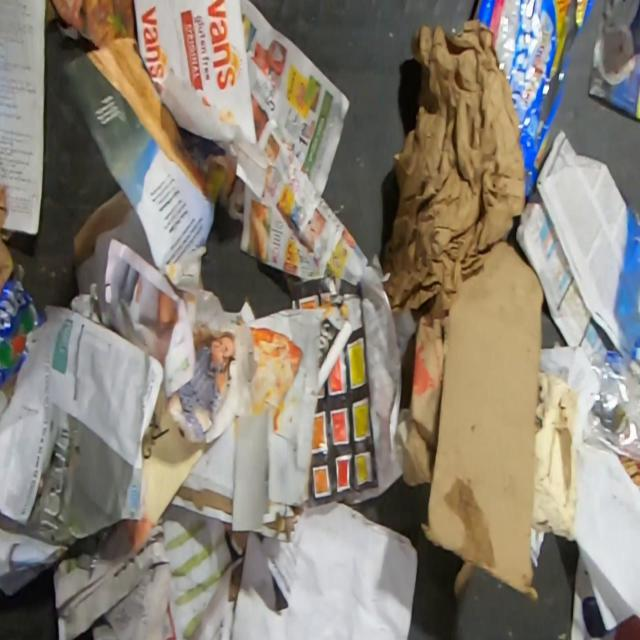cardboard: (420, 232, 547, 602), (401, 317, 449, 488), (532, 371, 579, 539), (73, 188, 135, 266), (453, 560, 480, 596)
metal: (0, 281, 46, 397)
rigid_plastic: (588, 206, 640, 556)
soft_plastic: (472, 0, 598, 196)
